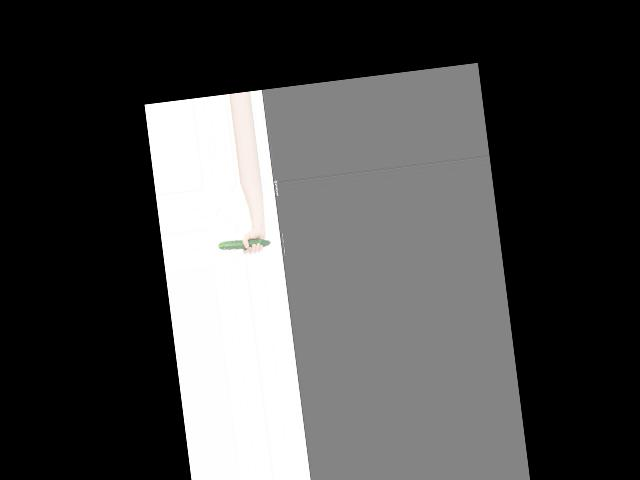cucumber: (218, 236, 271, 252)
